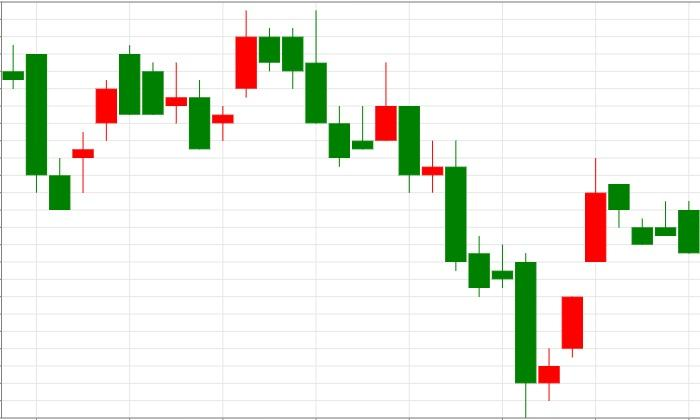three_white_soldiers_rise: (374, 62, 607, 418)
